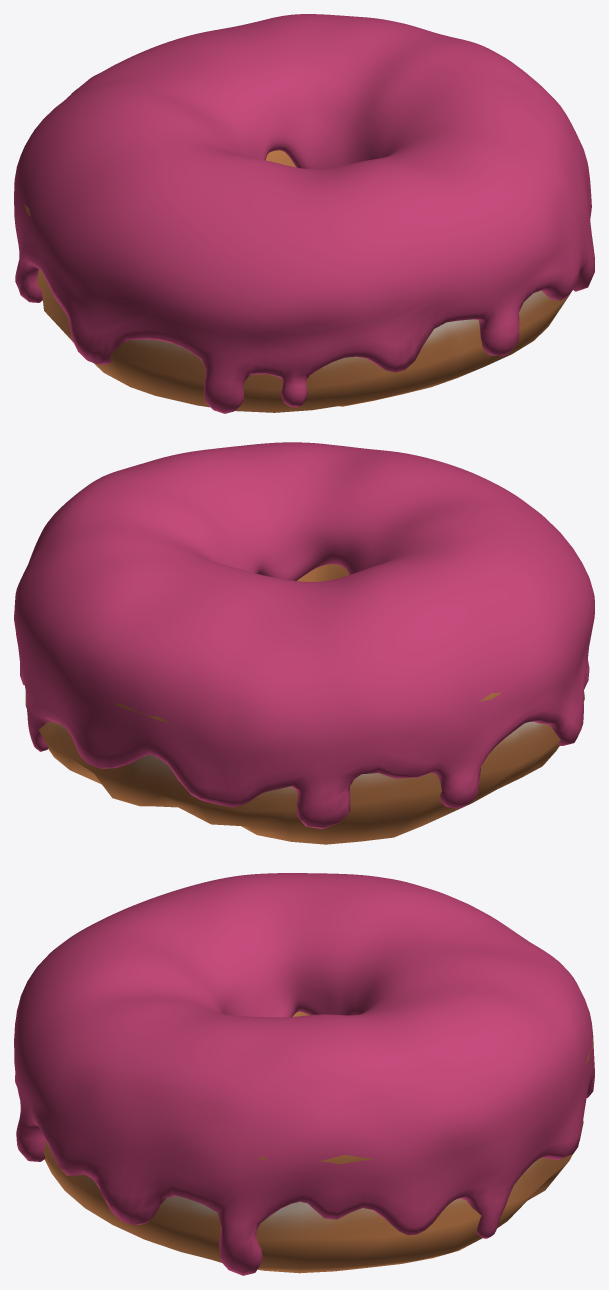
Rendered from doNut.gltf.
The picture shows the model from 3 angles, top to bottom: view 1: azimuth 30°, elevation 25°; view 2: azimuth 150°, elevation 25°; view 3: azimuth 270°, elevation 25°; orthographic projection.
Visible parts, largest first — view 1: icing, donut; view 2: icing, donut; view 3: icing, donut.
Boxes of the visible parts, <box> form: icing: <box>14,14,594,413</box>; donut: <box>24,150,571,412</box>; icing: <box>14,442,594,828</box>; donut: <box>25,564,584,844</box>; icing: <box>14,873,594,1275</box>; donut: <box>43,1011,593,1273</box>.
Bounding box in the file's own units: 0.0971 × 0.0434 × 0.0962.
